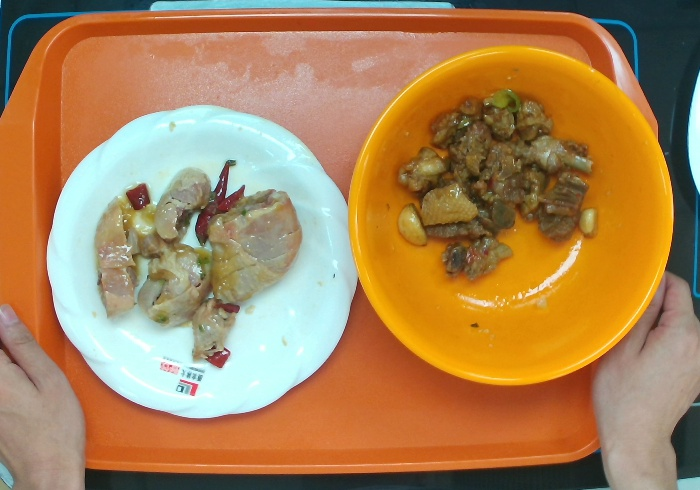ZNLD-Hua_Bian_Wan: (48, 103, 360, 421)
ZNLD-Ju_Se_Tang_Wan: (340, 44, 678, 394)
